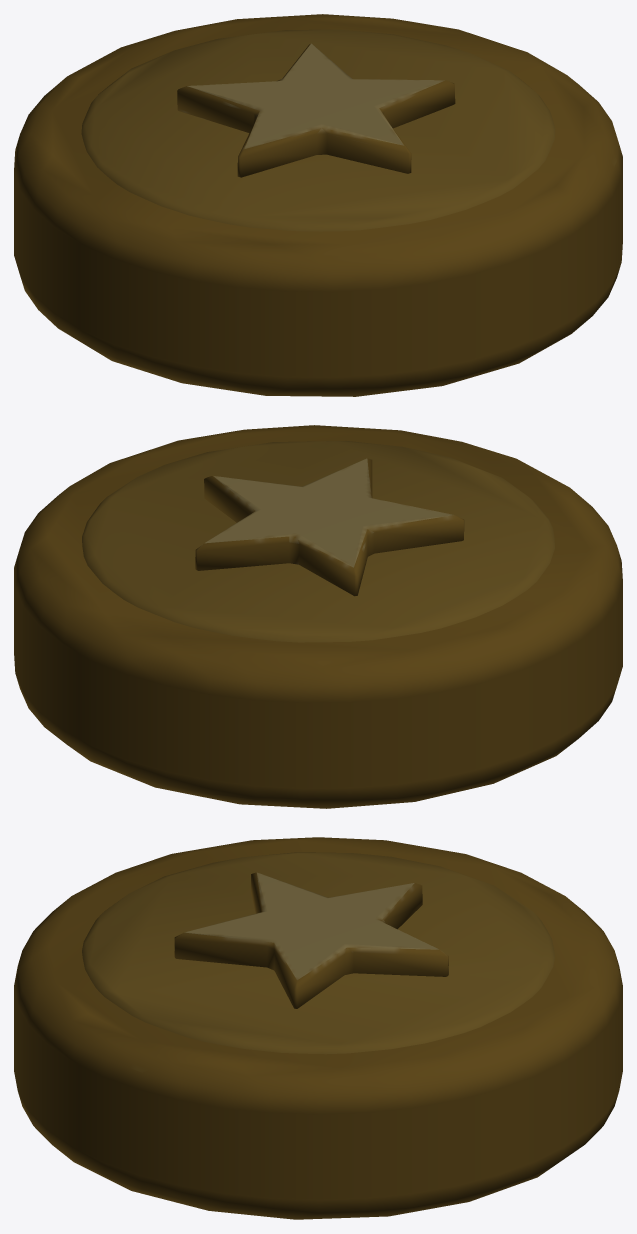
Rendered from item_coin.glb.
3 renders of one model, top to bottom at view 1: azimuth 30°, elevation 25°; view 2: azimuth 150°, elevation 25°; view 3: azimuth 270°, elevation 25°, orthographic.
Visible parts, largest first — view 1: face; view 2: face; view 3: face.
Boxes of the visible parts, left/top/right/bottom form: face: left=14, top=14, right=622, bottom=396; face: left=14, top=425, right=622, bottom=808; face: left=14, top=837, right=622, bottom=1219.
Size of the model in its own units: 0.52 by 0.17 by 0.52.
1 material, 1 textured.
